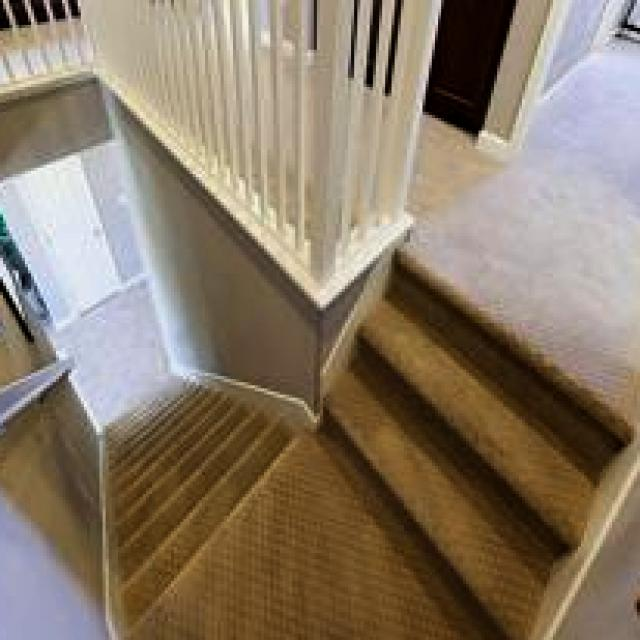downstair: (94, 377, 309, 601)
